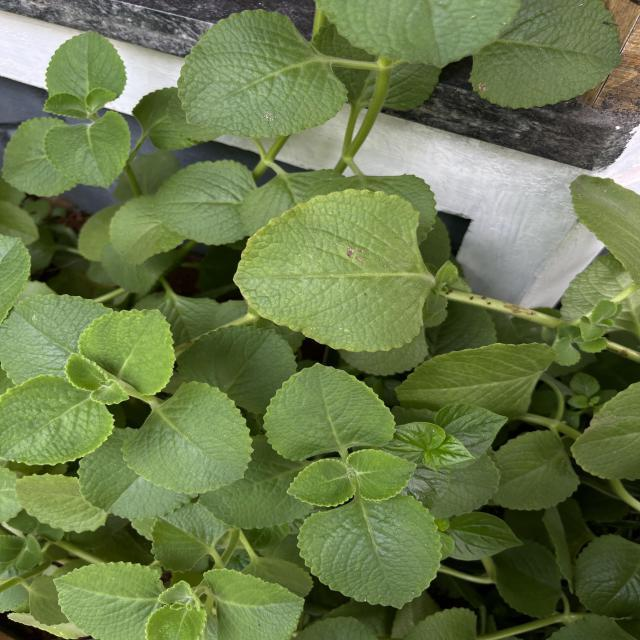Plectranthus barbatus: (230, 186, 430, 355), (177, 7, 350, 138), (296, 492, 444, 612), (466, 0, 624, 110), (120, 380, 254, 494), (261, 358, 398, 462), (392, 339, 562, 416), (174, 322, 298, 416), (0, 372, 116, 466), (0, 292, 116, 385), (76, 306, 178, 398), (152, 156, 255, 247), (52, 559, 165, 640), (202, 567, 308, 640), (494, 428, 582, 512), (42, 109, 132, 190), (0, 115, 80, 199), (571, 530, 640, 620), (12, 472, 108, 534), (45, 28, 126, 100), (108, 194, 188, 266), (346, 446, 418, 503), (284, 458, 354, 508)
